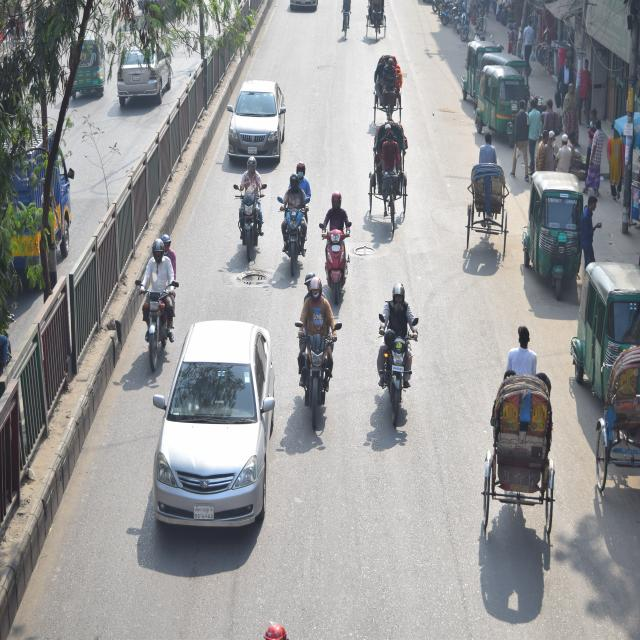car: (148, 308, 280, 534), (225, 70, 290, 166), (115, 33, 178, 125)
motorbike: (287, 290, 340, 436), (370, 298, 422, 429), (136, 258, 179, 379), (226, 182, 266, 267), (318, 204, 351, 302), (278, 182, 310, 283)
pickup-van: (0, 128, 72, 304)
